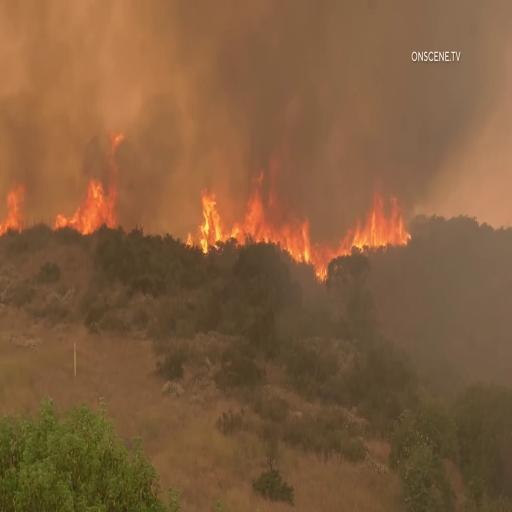fire: (198, 180, 326, 272), (323, 180, 411, 252), (69, 157, 122, 240), (2, 185, 28, 237)
smoke: (142, 10, 338, 148)
